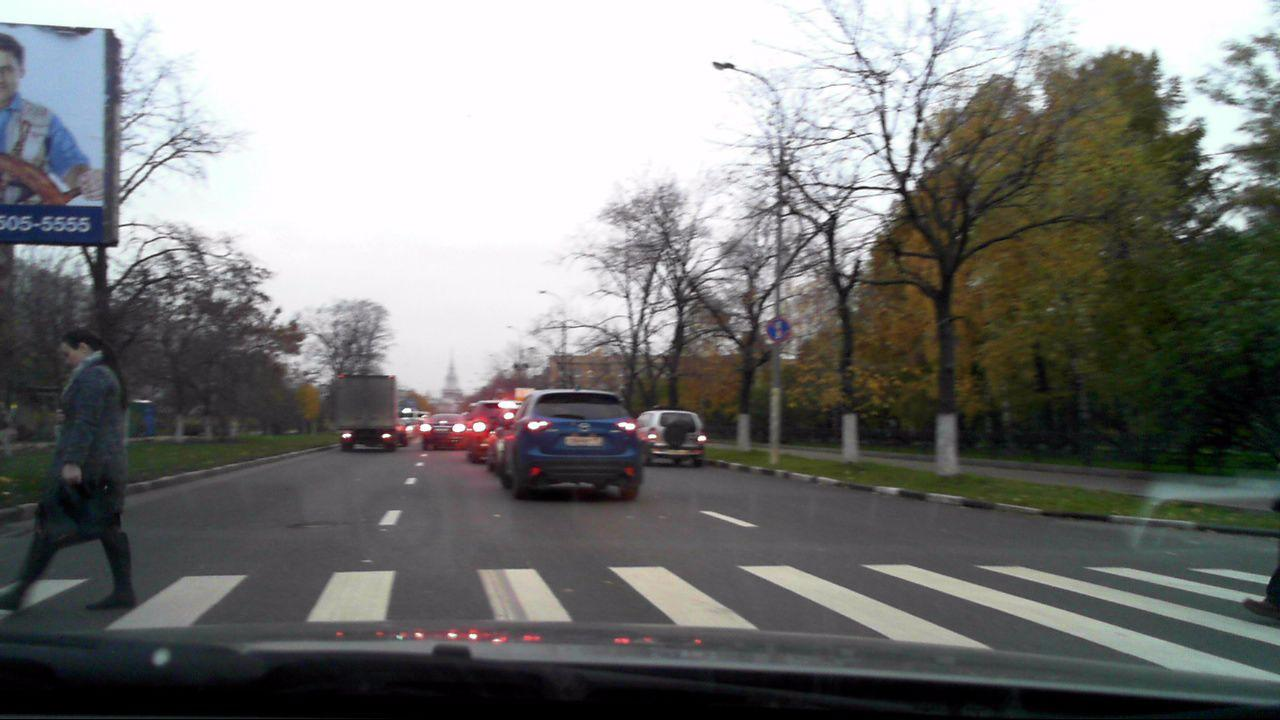3_29: (766, 317, 791, 341)
